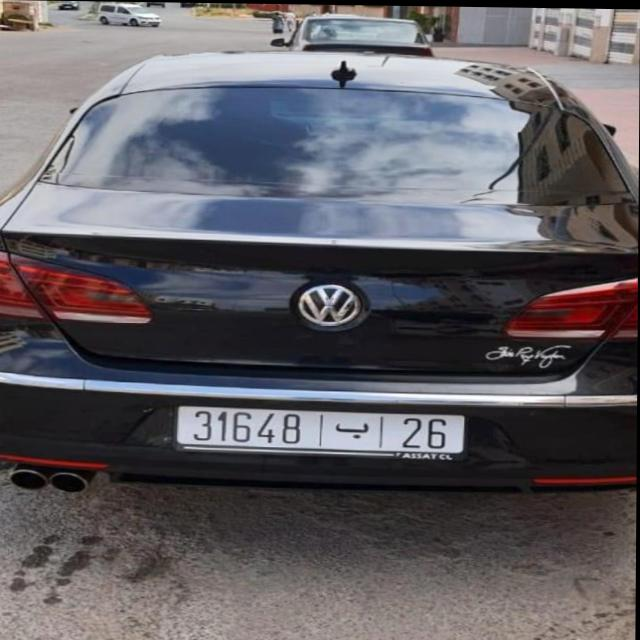License-Plate: (177, 406, 466, 453)
